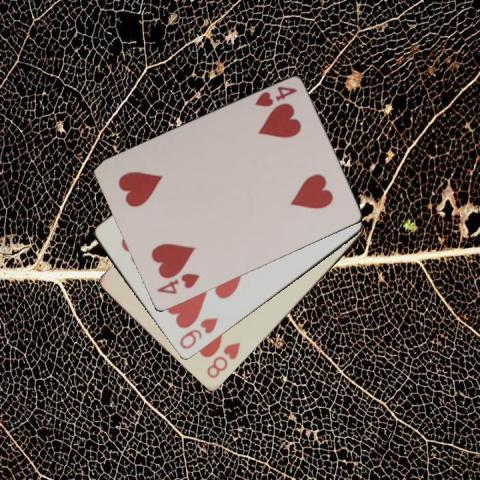4h: (251, 83, 299, 109), (154, 271, 202, 296)
8h: (203, 339, 242, 381)
9h: (176, 315, 219, 351)
